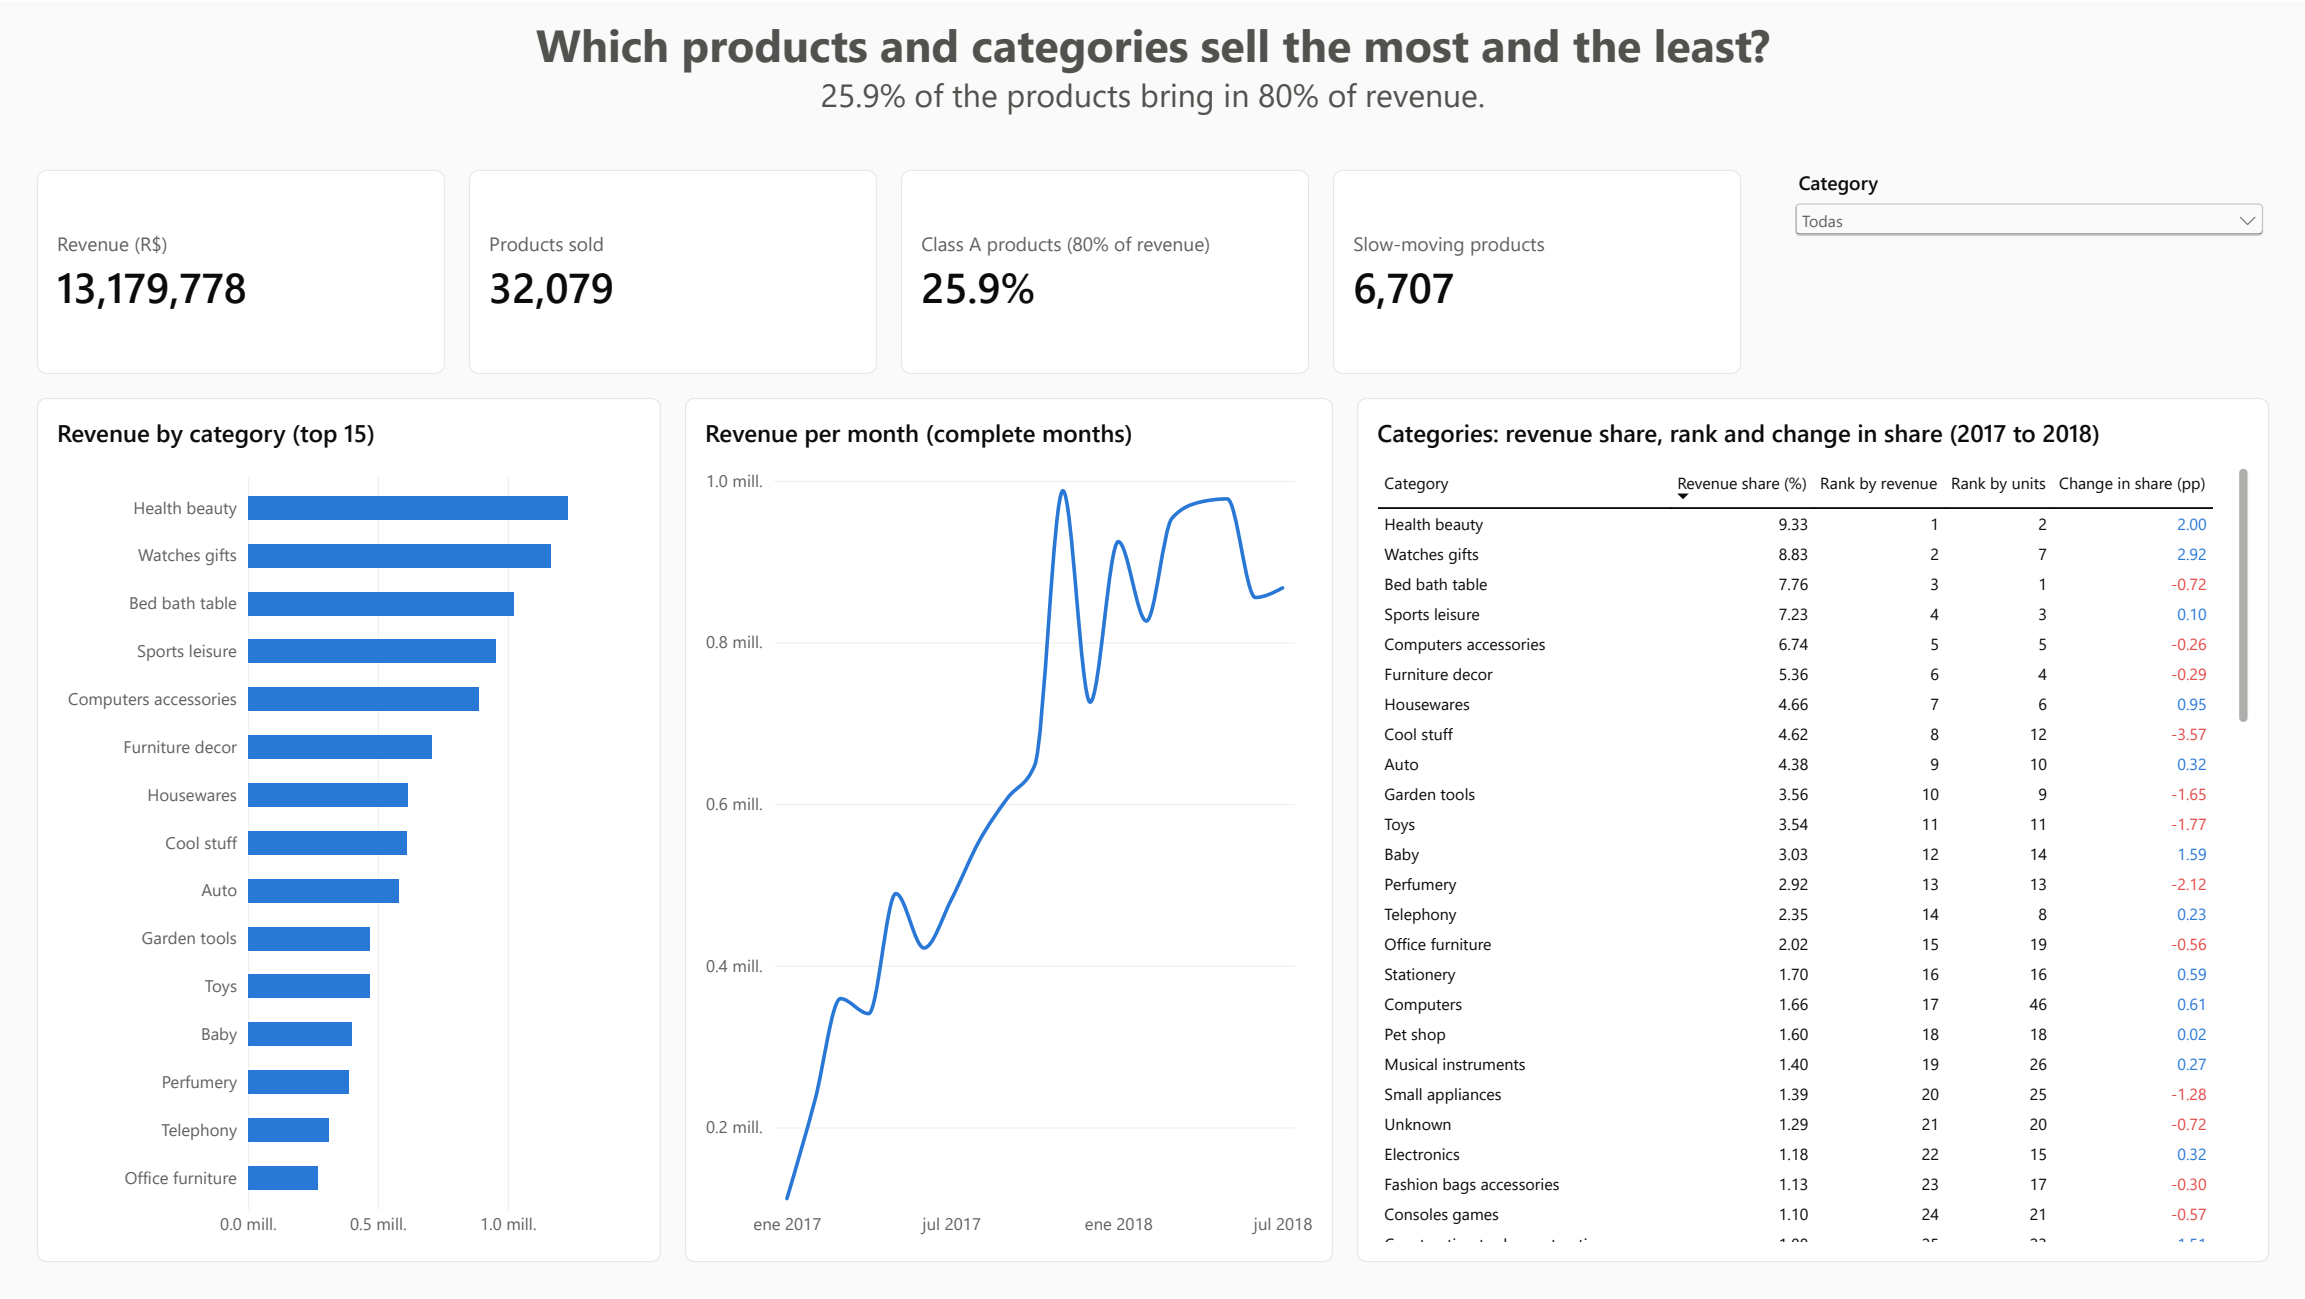

Layout of this report page (visuals, bound fields, positions):
{"tool":"powerbi","page":{"name":"Products","canvas":[1920,1080],"ordinal":0},"visuals":[{"type":"textbox","box":[30,10,1860,115],"z":0},{"type":"cardVisual","fields":{"Data":["category_monthly.Revenue (R$)"]},"box":[30,140,340,170],"z":1},{"type":"cardVisual","fields":{"Data":["product_abc.Products sold"]},"box":[390,140,340,170],"z":2},{"type":"cardVisual","fields":{"Data":["product_abc.Class A products (80% of revenue)"]},"box":[750,140,340,170],"z":3},{"type":"cardVisual","fields":{"Data":["product_abc.Slow-moving products"]},"box":[1110,140,340,170],"z":4},{"type":"slicer","fields":{"Values":["category_summary.category"]},"box":[1490,140,400,90],"z":5},{"type":"barChart","title":"Revenue by category (top 15)","fields":{"Category":["category_summary.category"],"Y":["Sum(category_summary.revenue)"]},"box":[30,330,520,720],"z":6},{"type":"lineChart","title":"Revenue per month (complete months)","fields":{"Category":["category_monthly.month"],"Y":["category_monthly.Total revenue"]},"box":[570,330,540,720],"z":7},{"type":"tableEx","title":"Categories: revenue share, rank and change in share (2017 to 2018)","fields":{"Values":["category_summary.category","Sum(category_summary.revenue_pct)","Sum(category_summary.rank_by_revenue)","Sum(category_summary.rank_by_units)","Sum(category_summary.change_pp)"]},"box":[1130,330,760,720],"z":8}]}

Visuals, with their boxes in screenshot pixels (x1, y1, x2, y2), scaled from the page's 1920x1080 canvas onto the 2305x1299 screenshot:
textbox: (x1=36, y1=12, x2=2269, y2=150)
cardVisual - category_monthly.Revenue (R$): (x1=36, y1=168, x2=444, y2=373)
cardVisual - product_abc.Products sold: (x1=468, y1=168, x2=876, y2=373)
cardVisual - product_abc.Class A products (80% of revenue): (x1=900, y1=168, x2=1309, y2=373)
cardVisual - product_abc.Slow-moving products: (x1=1333, y1=168, x2=1741, y2=373)
slicer - category_summary.category: (x1=1789, y1=168, x2=2269, y2=277)
"Revenue by category (top 15)" barChart: (x1=36, y1=397, x2=660, y2=1263)
"Revenue per month (complete months)" lineChart: (x1=684, y1=397, x2=1333, y2=1263)
"Categories: revenue share, rank and change in share (2017 to 2018)" tableEx: (x1=1357, y1=397, x2=2269, y2=1263)
